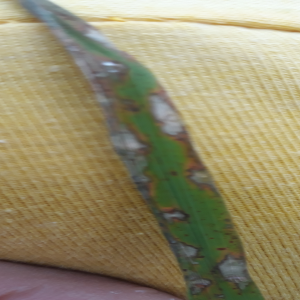Rice_Blast: (211, 249, 256, 298), (151, 93, 185, 144), (91, 50, 131, 82), (172, 234, 211, 262), (188, 163, 221, 196), (157, 201, 196, 227), (179, 265, 212, 294)
